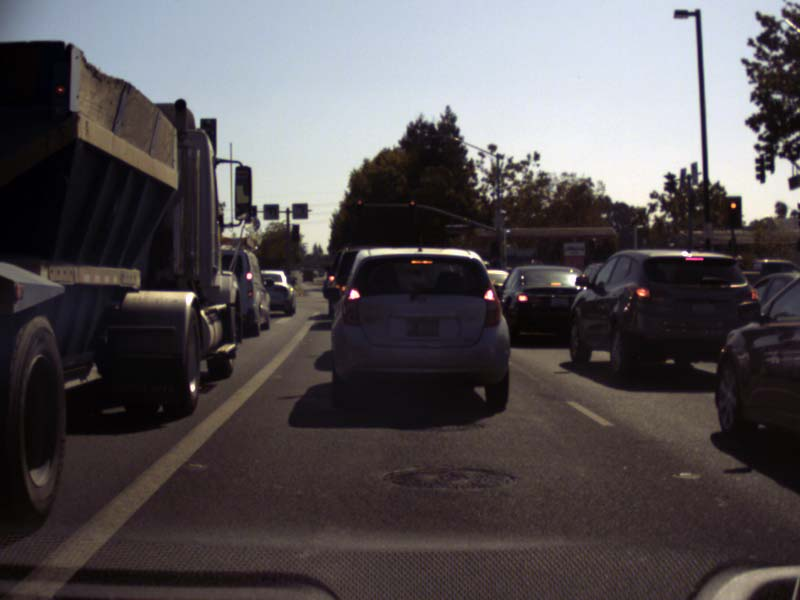Red: (409, 198, 415, 215), (356, 198, 362, 214)
Yellow: (727, 197, 740, 227)
